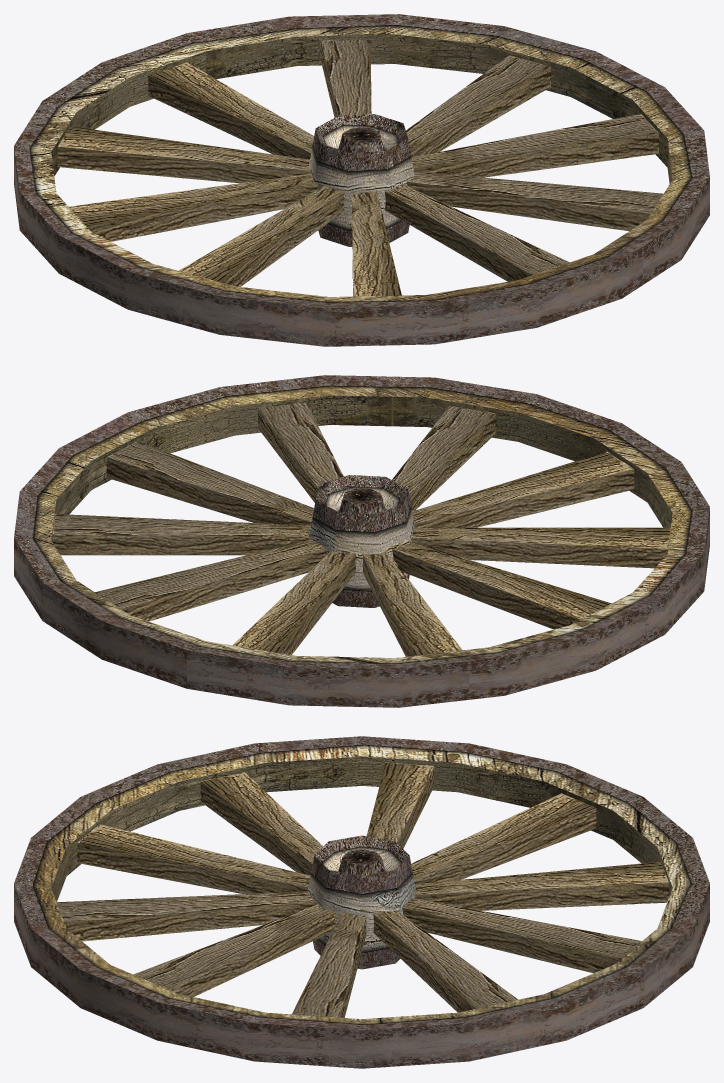
The model's file is wagonwheel.fbx.
3 renders of one model, top to bottom at view 1: azimuth 30°, elevation 25°; view 2: azimuth 150°, elevation 25°; view 3: azimuth 270°, elevation 25°, orthographic.
Parts seen in each view (by area): view 1: wheel1; view 2: wheel1; view 3: wheel1.
Part boxes in pixels (left/top/right/bottom): wheel1: left=14, top=14, right=709, bottom=346; wheel1: left=14, top=375, right=709, bottom=707; wheel1: left=14, top=736, right=709, bottom=1068.
Bounding box in the file's own units: 1.26 × 0.187 × 1.26.
